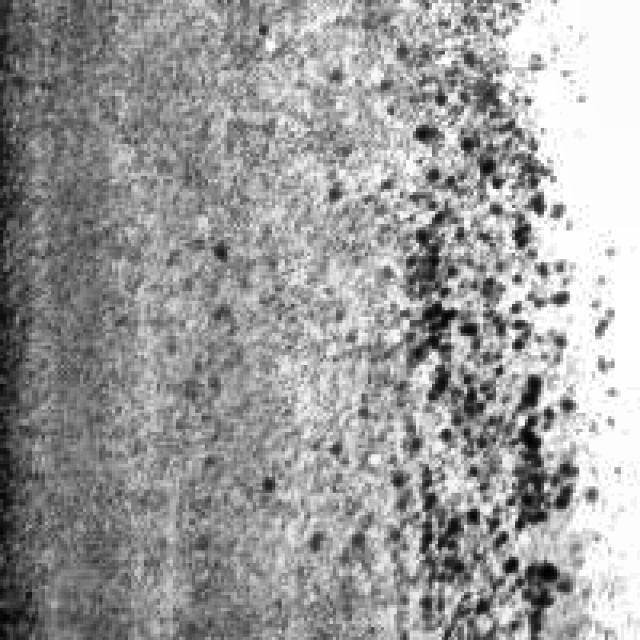Rolled_in_Scale: (374, 22, 614, 637)
